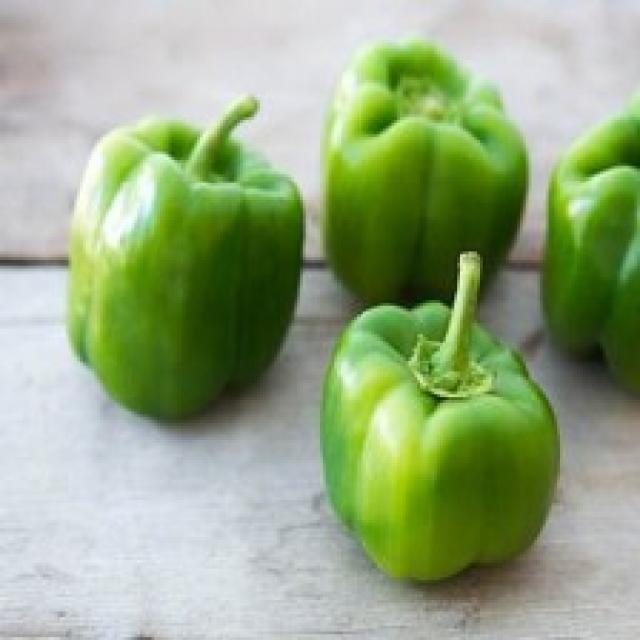Pepper: (318, 255, 562, 585), (63, 98, 306, 427), (323, 39, 529, 310)
